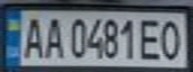0: (66, 15, 87, 60)
1: (118, 16, 139, 60)
4: (84, 15, 106, 60)
8: (103, 16, 121, 60)
A: (18, 13, 48, 60), (39, 13, 66, 60)
E: (136, 16, 163, 61)
O: (157, 16, 187, 61)
